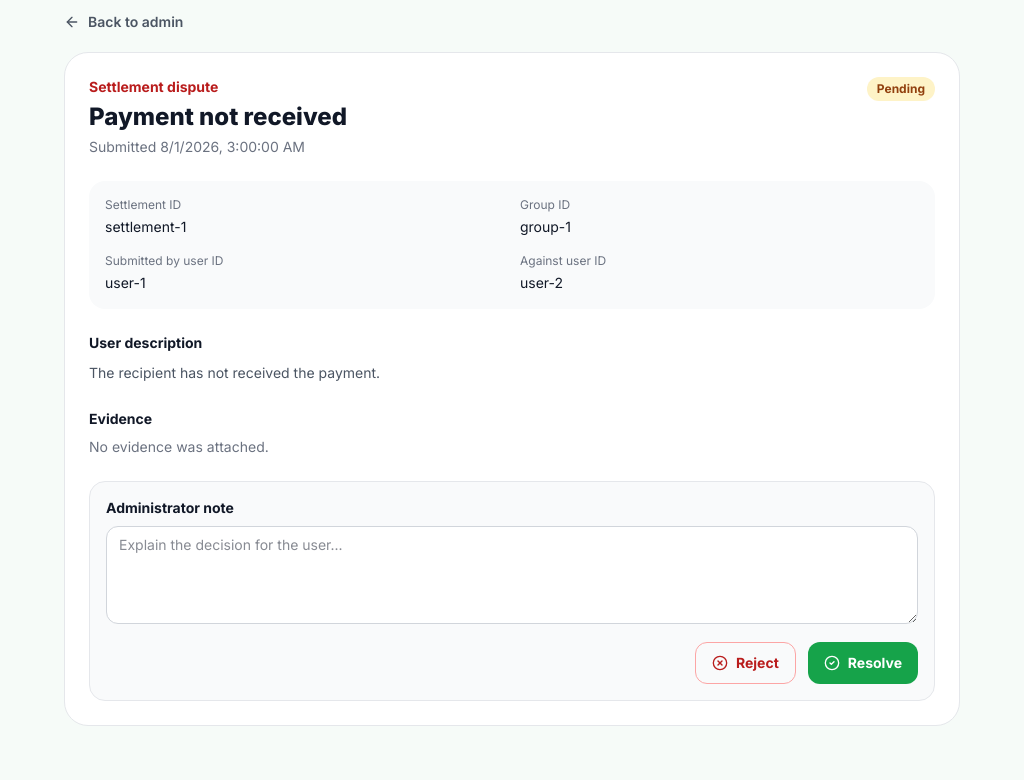
Test: AdminSettlementDisputeDetailPage › resolves a pending dispute with the required note
This screenshot has width=1024, height=780.
Expected: the heading "Payment not received" is shown, x1=89 y1=101 x2=347 y2=133
Step 1. Type "Payment evidence verified." into the text box labelled "Administrator note" → (512, 575), box x1=106 y1=526 x2=918 y2=624
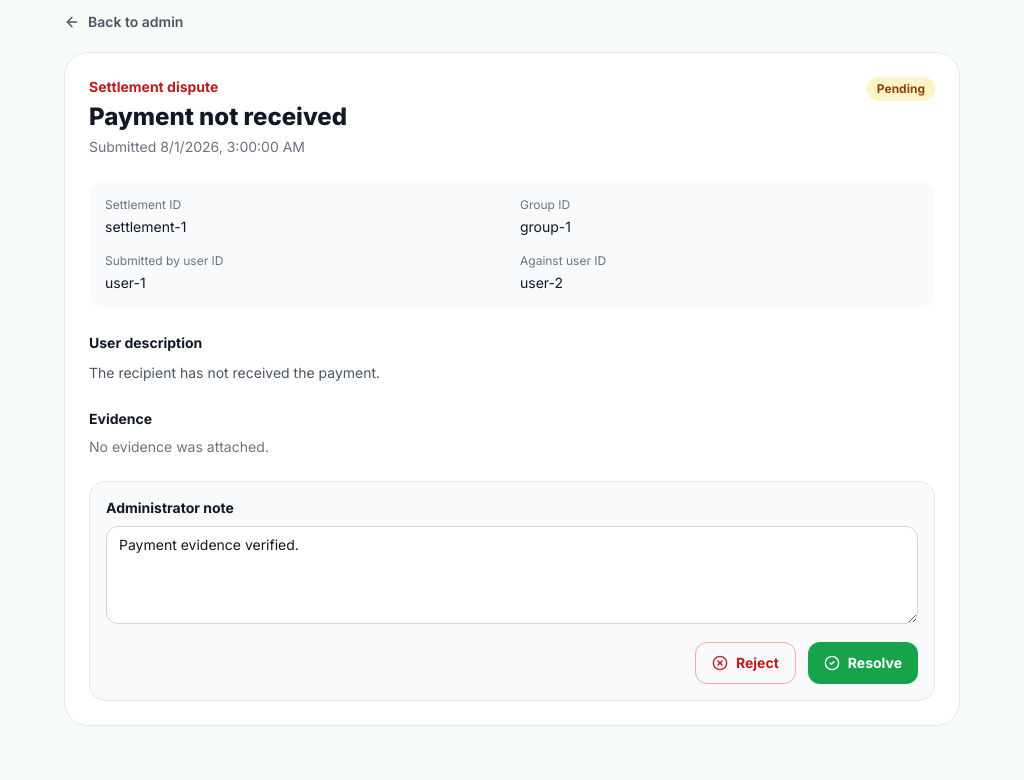
Step 2. Click the button "Resolve" → (863, 663), box x1=808 y1=642 x2=918 y2=684
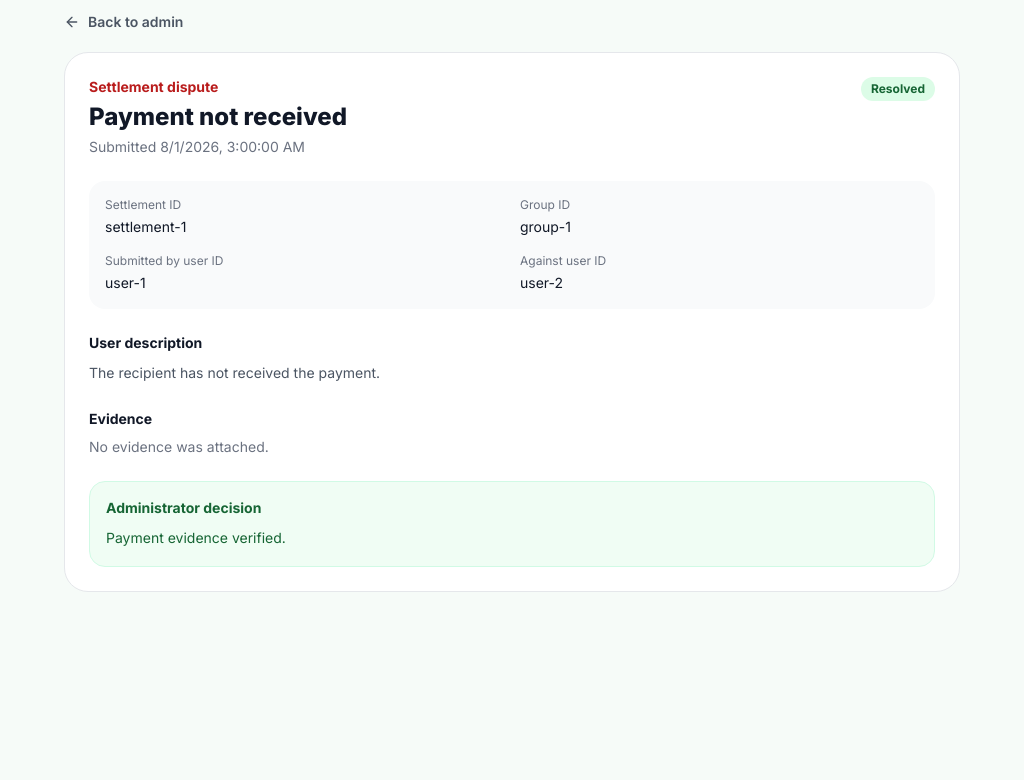
Now the heading "Administrator decision" is shown, box x1=106 y1=499 x2=261 y2=516
